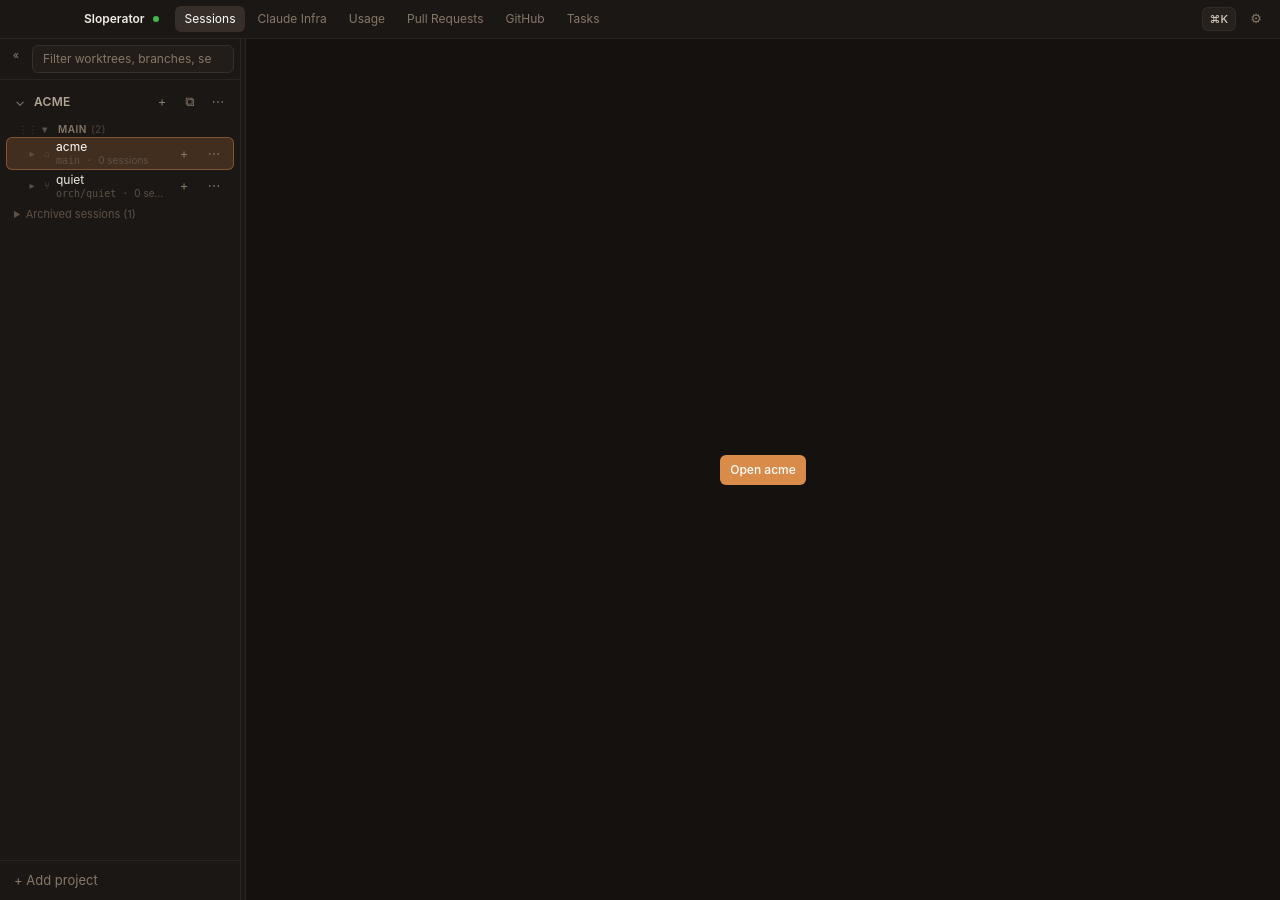
Scenario: landing, opening and links › lands on a worktree, not a session, when the worktree has none, and opens a fresh one on click
Check: the button "Open acme" is shown, box [720,454,806,484]
Click the text titled "quiet-wt" at (70,179), box [56,172,84,186]
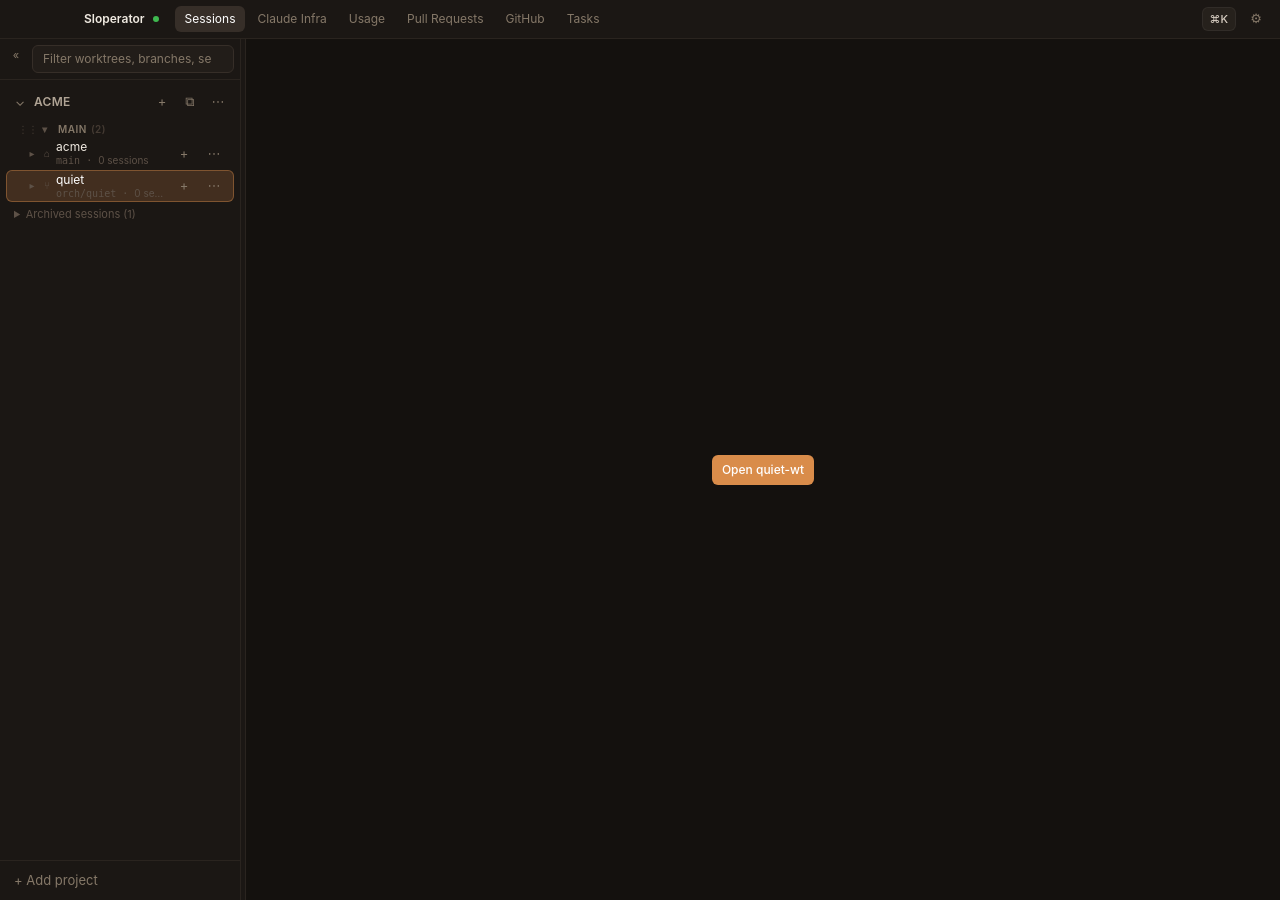
Check: the button "Open quiet-wt" is shown, box [712,454,814,484]
